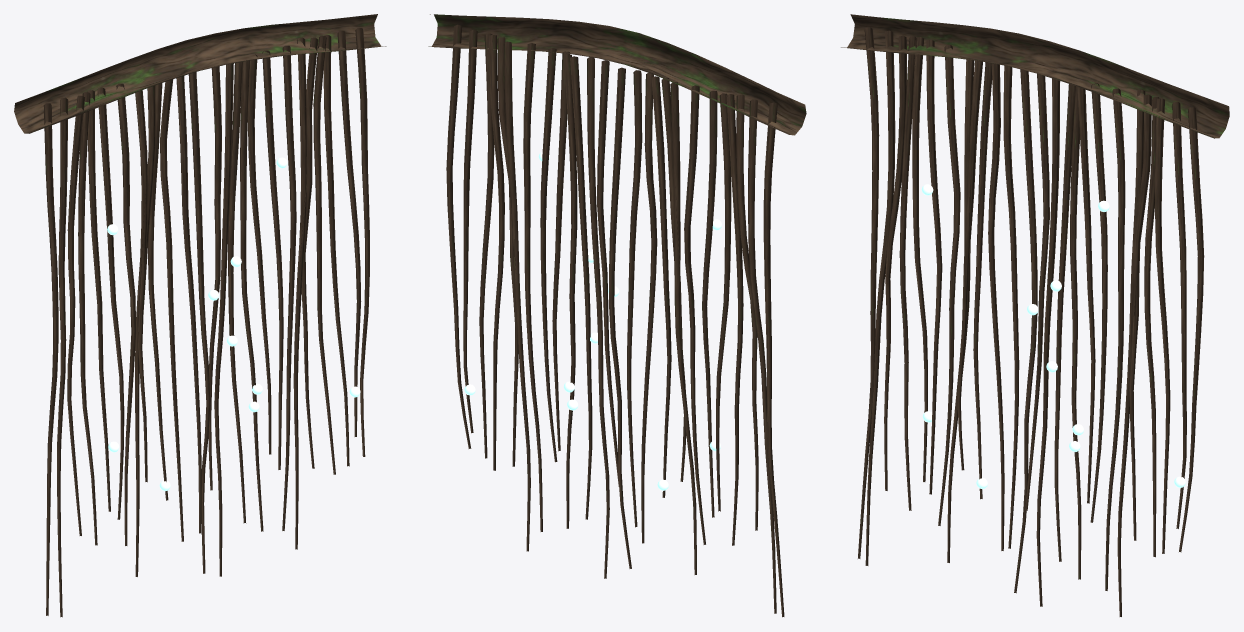
Rendered from gimmick_root_curtain_shortcut.glb.
3 views of the same model, side by side, from view 1: azimuth 30°, elevation 25°; view 2: azimuth 150°, elevation 25°; view 3: azimuth 330°, elevation 25° (orthographic). The views are drawn at different scales.
Parts seen in each view (by area): view 1: gimmick_root_curtain_shortcut__root, gimmick_root_curtain_shortcut__bark, gimmick_root_curtain_shortcut__glow_core; view 2: gimmick_root_curtain_shortcut__root, gimmick_root_curtain_shortcut__bark, gimmick_root_curtain_shortcut__glow_core; view 3: gimmick_root_curtain_shortcut__root, gimmick_root_curtain_shortcut__bark, gimmick_root_curtain_shortcut__glow_core.
Boxes of the visible parts, x1,y1,x2,y2 form: gimmick_root_curtain_shortcut__root: [43, 28, 369, 617]; gimmick_root_curtain_shortcut__bark: [14, 14, 386, 133]; gimmick_root_curtain_shortcut__glow_core: [107, 157, 360, 491]; gimmick_root_curtain_shortcut__root: [446, 24, 784, 617]; gimmick_root_curtain_shortcut__bark: [428, 14, 806, 135]; gimmick_root_curtain_shortcut__glow_core: [464, 151, 721, 490]; gimmick_root_curtain_shortcut__root: [858, 27, 1204, 616]; gimmick_root_curtain_shortcut__bark: [841, 14, 1229, 138]; gimmick_root_curtain_shortcut__glow_core: [921, 184, 1185, 489].
Size of the model in its own units: 2.22 by 3.16 by 0.2317.
Materials: 3 (2 with a texture image).
